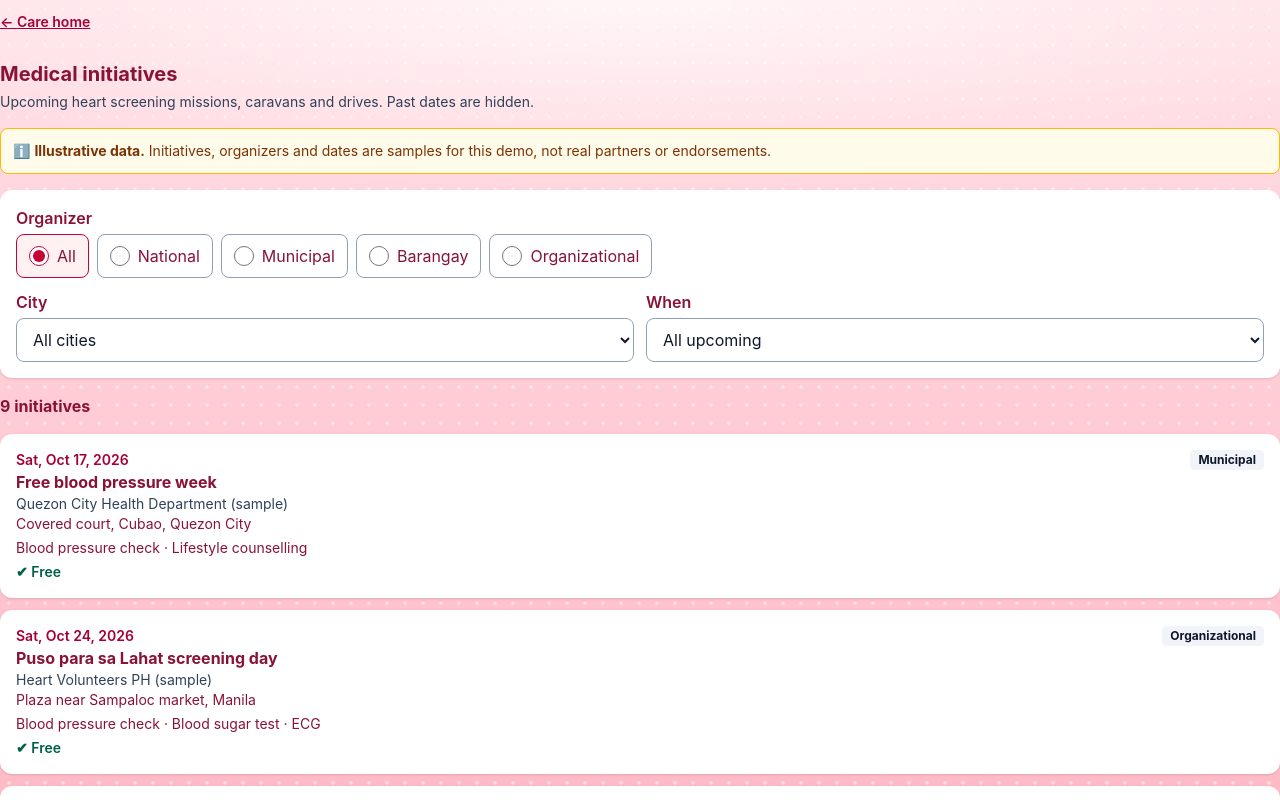
Scenario: medical initiatives screen › filters by National, Municipal, Barangay and Organizational
Click the radio button labelled "National" at (120, 256), box [110,246,130,266]
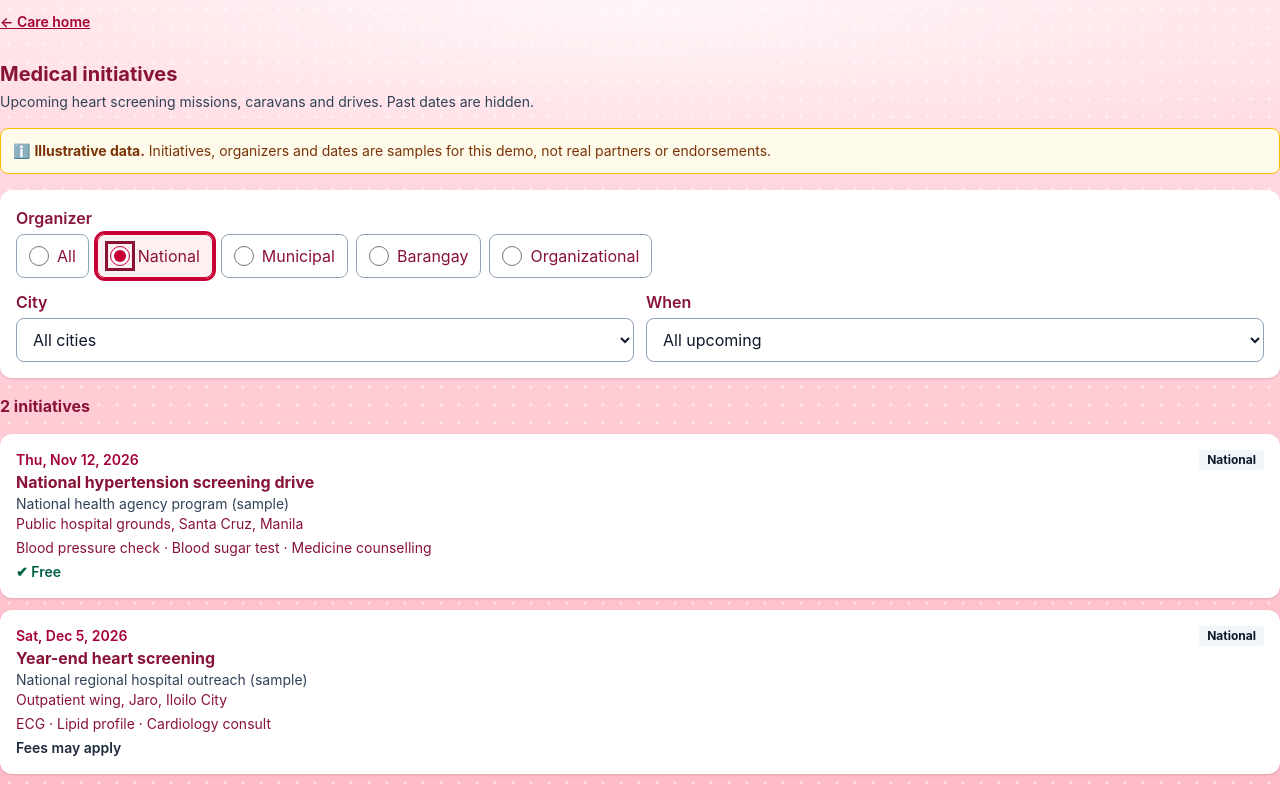
Expected: the list item that starts with "Thu, Nov 12, 2026" is shown, [0,434,1279,598]
Expected: the text "National" in the row of "Thu, Nov 12, 2026" is shown, [1207,452,1256,467]
Click the radio button labelled "Municipal" at (244, 256), box [234,246,254,266]
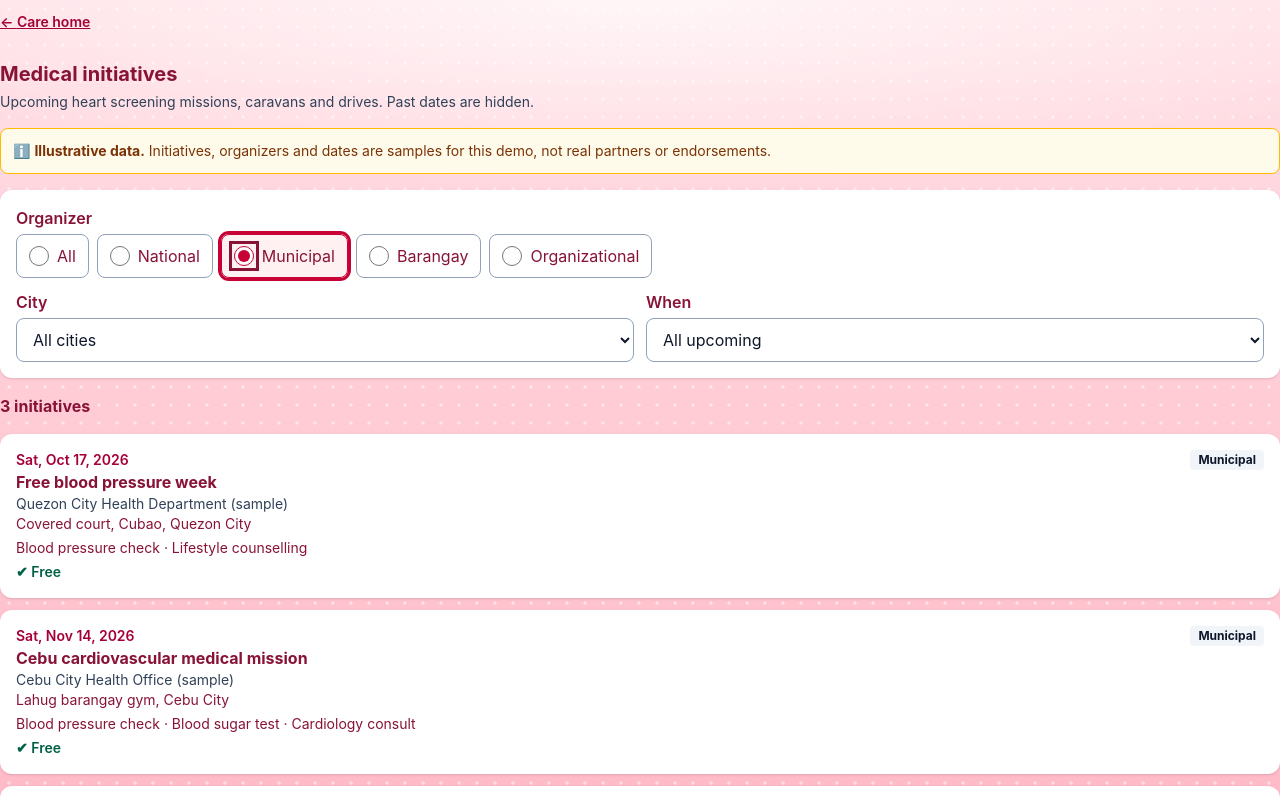
Result: the list item that starts with "Sat, Oct 17, 2026" is shown at [0,434,1279,598]
Result: the text "Municipal" in the row of "Sat, Oct 17, 2026" is shown at [1198,452,1256,467]
Result: the text "Municipal" in the row of "Sat, Nov 14, 2026" is shown at [1198,628,1256,643]
Click the radio button labelled "Barangay" at (379, 256), box [369,246,389,266]
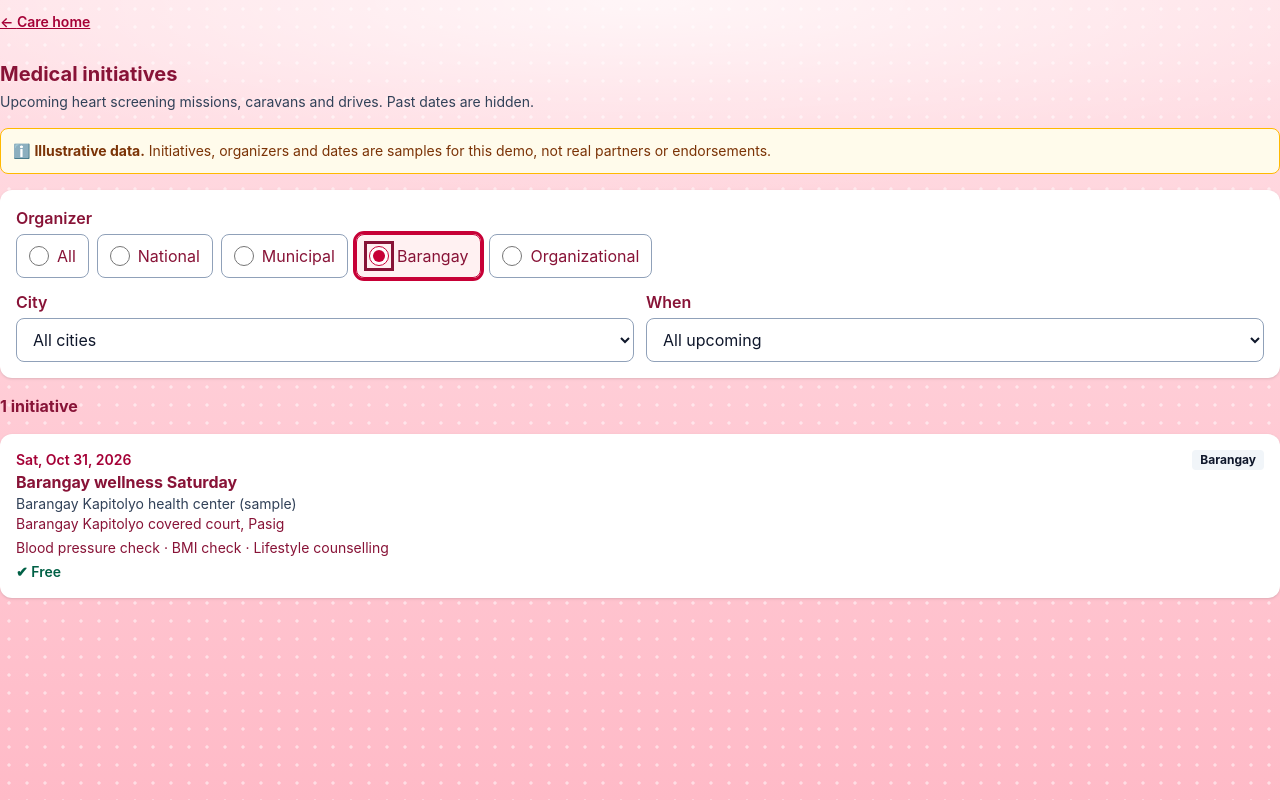
Result: the list item is shown at [0,434,1279,598]
Result: the text "Barangay" is shown at [1192,450,1264,470]
Click the radio button labelled "Organizational" at (512, 256), box [502,246,522,266]
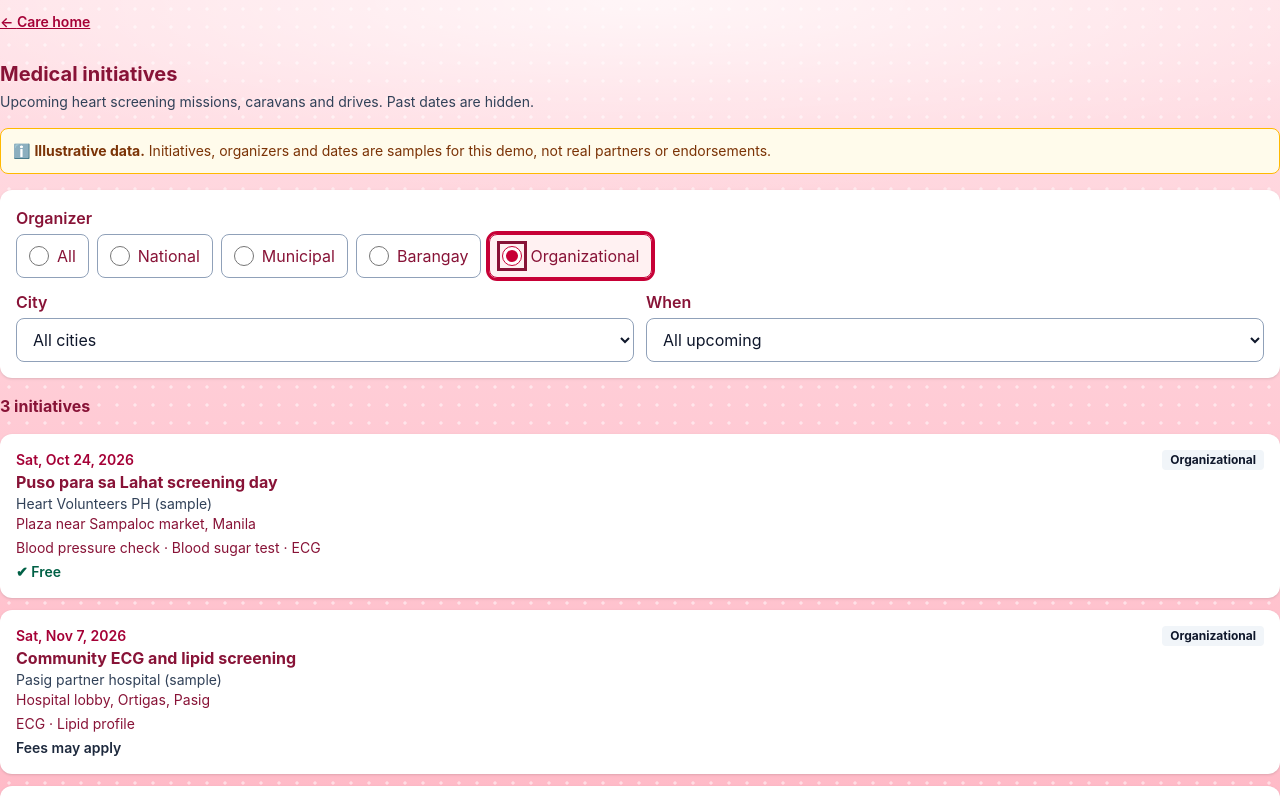
Result: the list item that starts with "Sat, Oct 24, 2026" is shown at [0,434,1279,598]
Result: the text "Organizational" in the row of "Sat, Oct 24, 2026" is shown at [1170,452,1256,467]
Result: the text "Organizational" in the row of "Sat, Nov 7, 2026" is shown at [1170,628,1256,643]
Click the radio button labelled "All" at (39, 256), box [29,246,49,266]
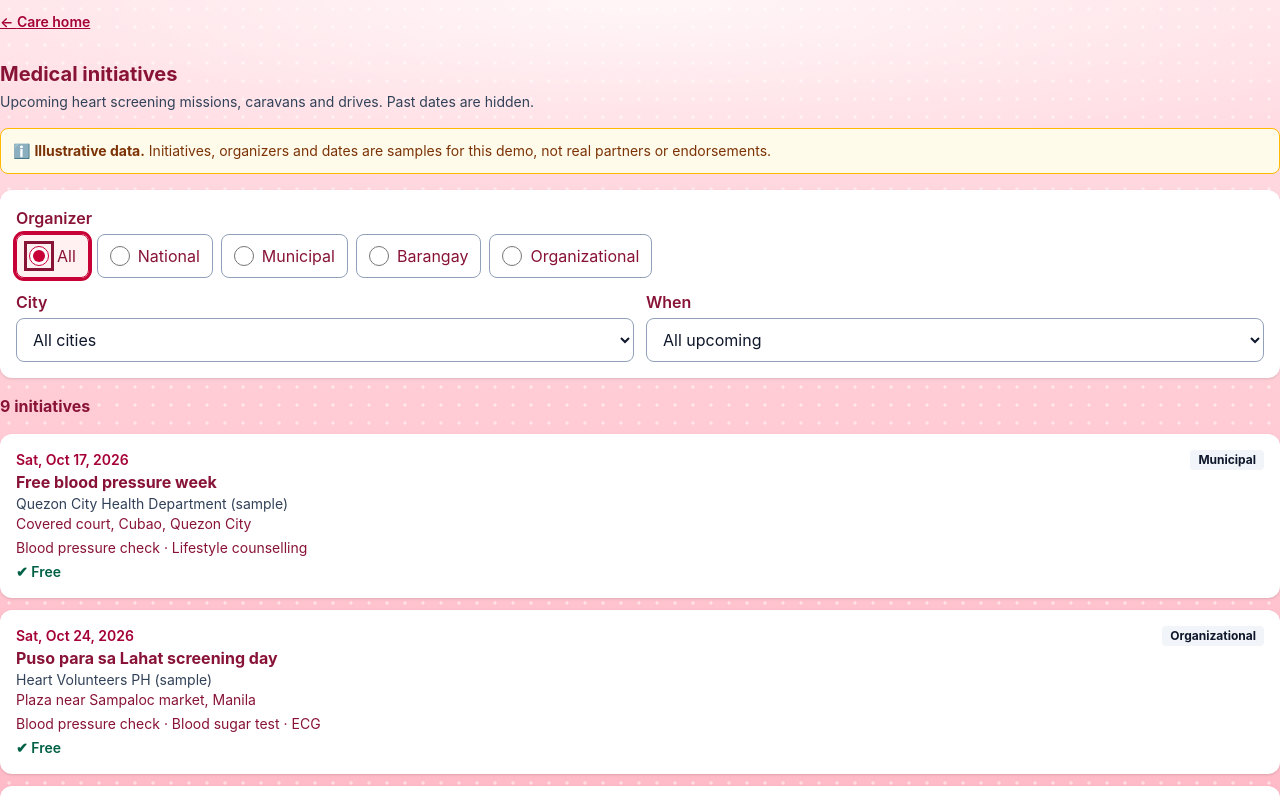
Result: the message reads "9 initiatives" at [0,396,90,416]
